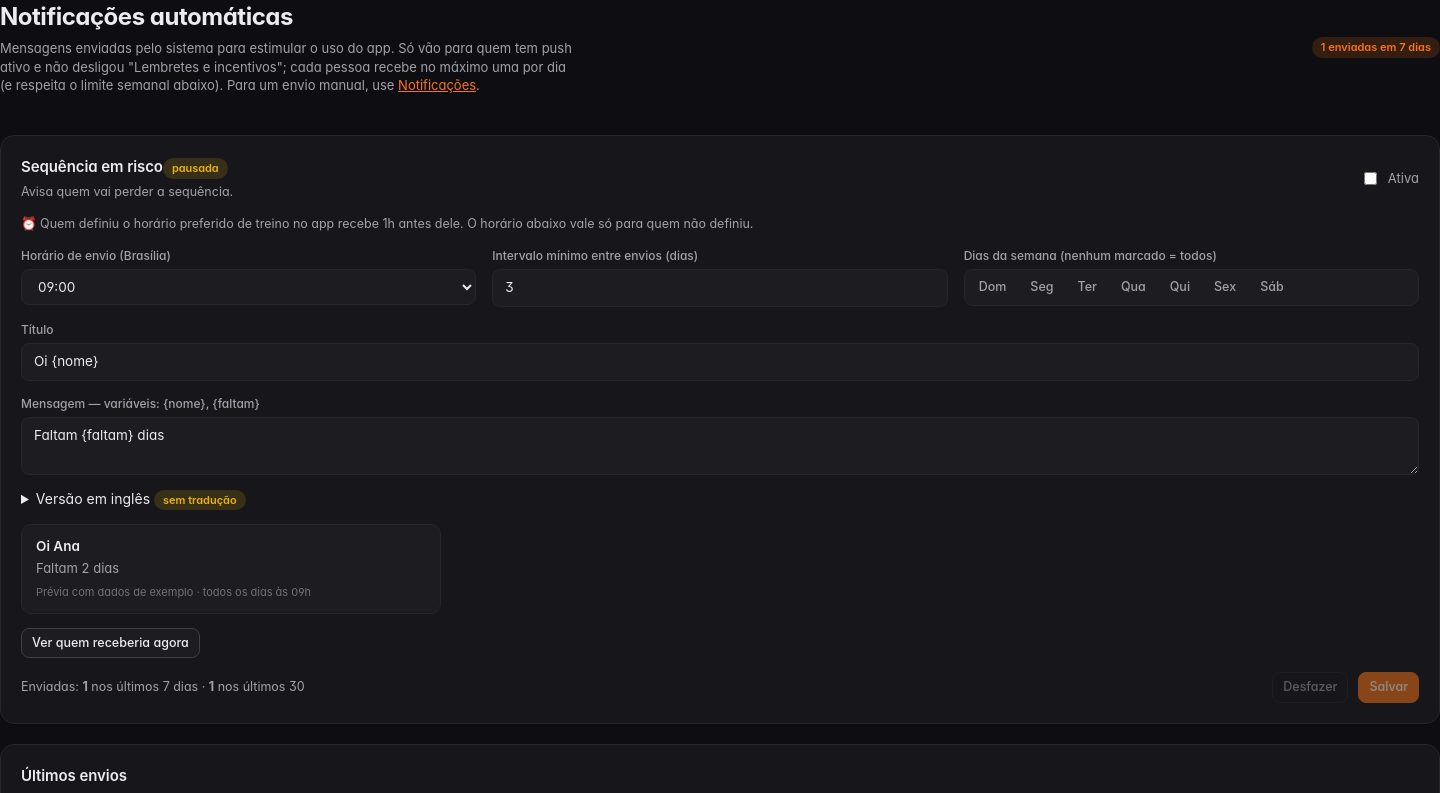
AutoNotifications › prévia vazia, pausada e com erro
Expected: the heading "Sequência em risco pausada" is shown, [21, 156, 233, 179]
Click the button "Ver quem receberia agora" at (110, 643), box [21, 628, 200, 658]
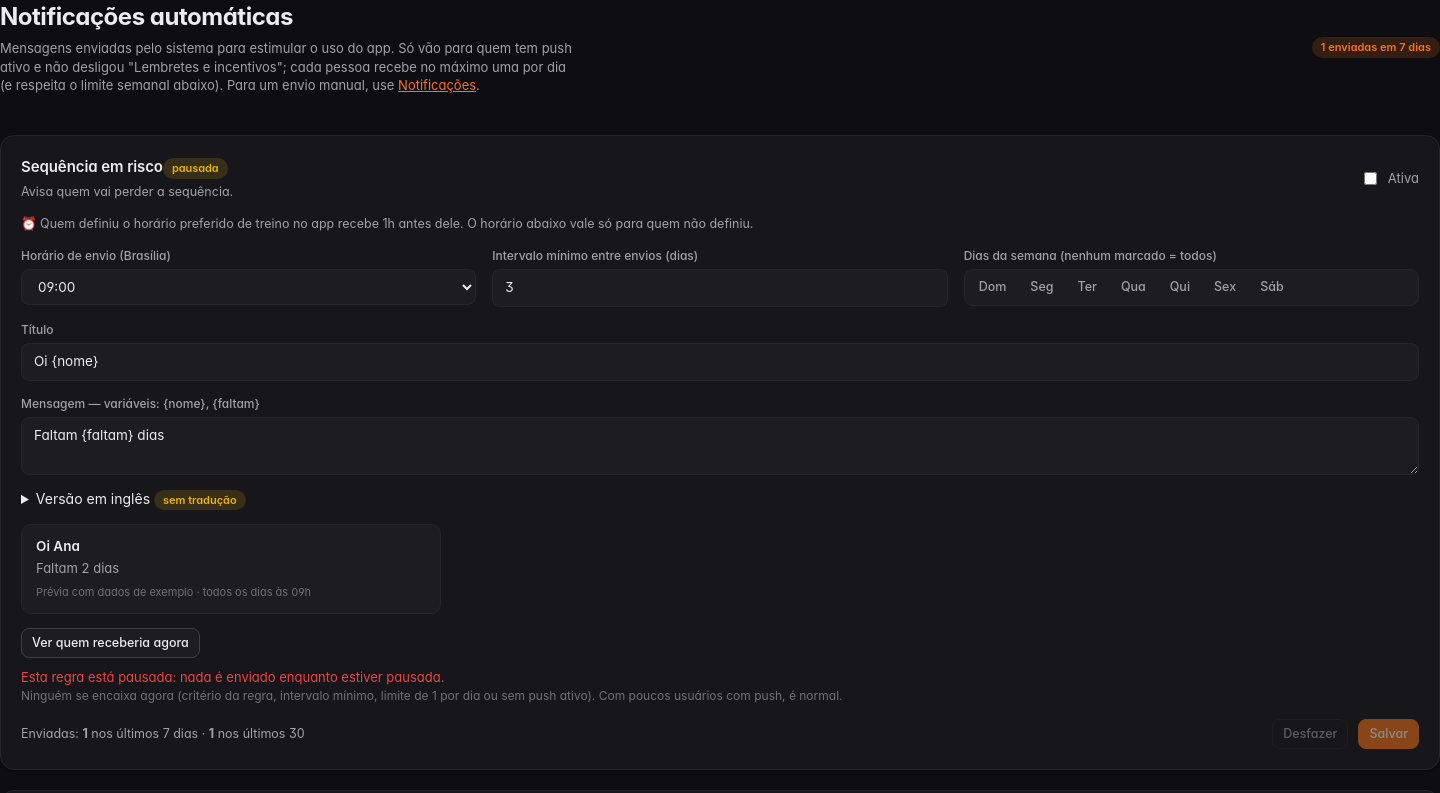
Result: the text "Ninguém se encaixa agora" is shown at [21, 688, 842, 703]
Result: the text "Esta regra está pausada" is shown at [21, 670, 444, 686]
Click the button "Ver quem receberia agora" at (110, 643), box [21, 628, 200, 658]
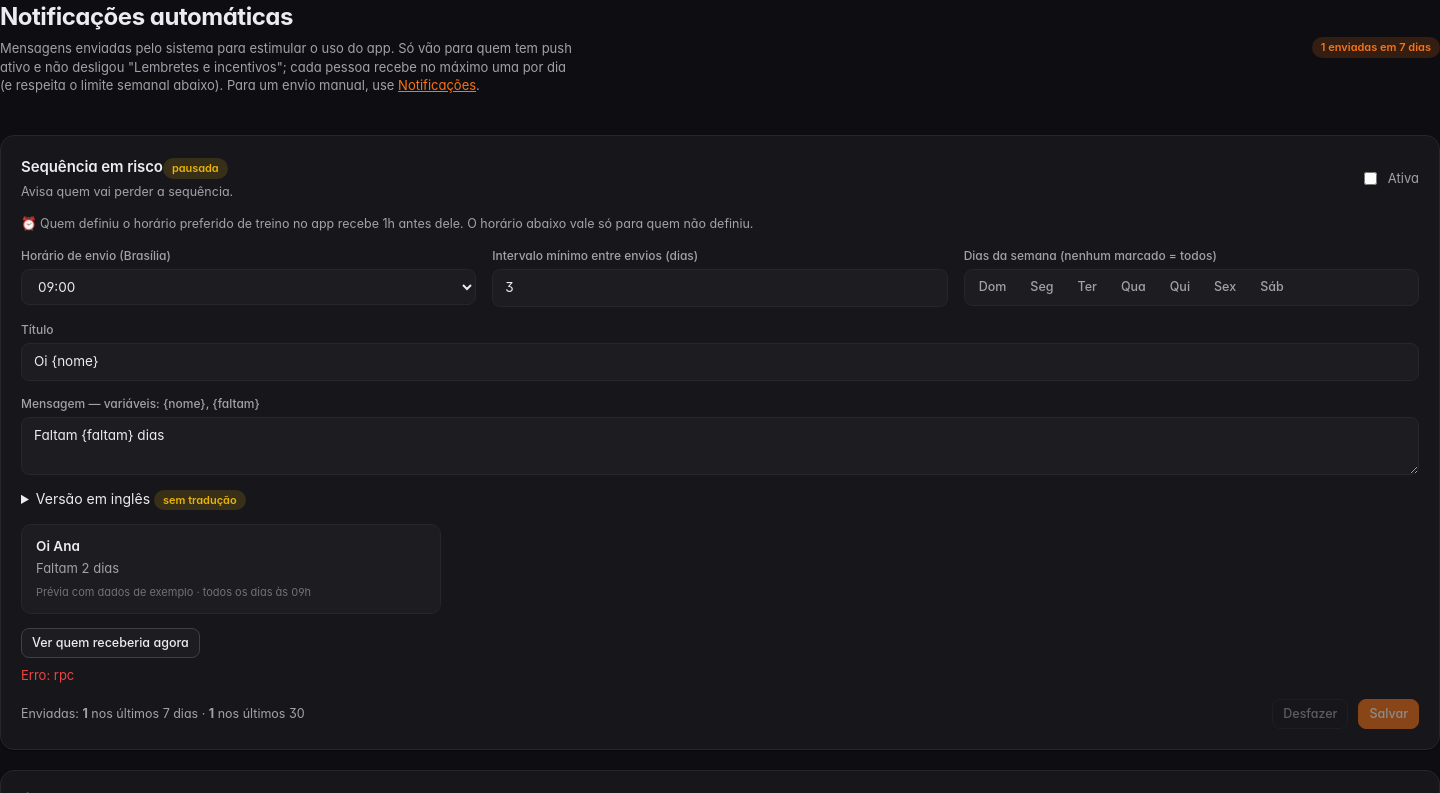
Result: the text "Erro: rpc" is shown at [21, 668, 74, 684]
